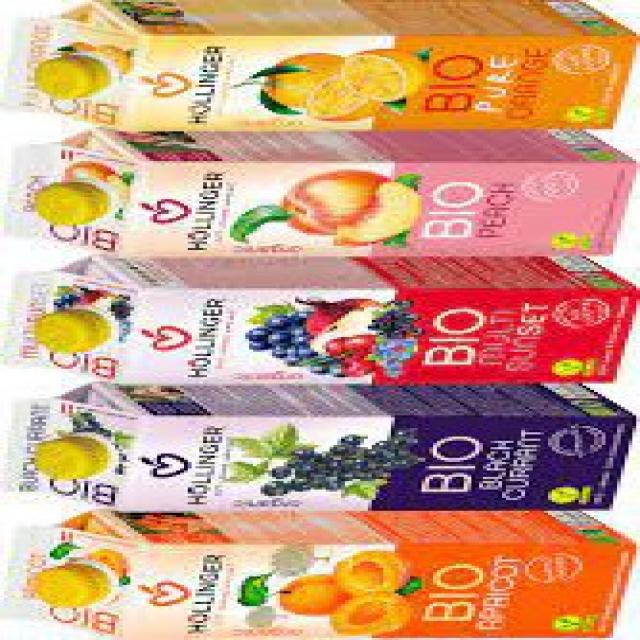non_white_jug: (0, 0, 640, 131), (0, 510, 640, 640), (0, 384, 640, 512), (0, 130, 636, 258), (0, 257, 640, 383)
